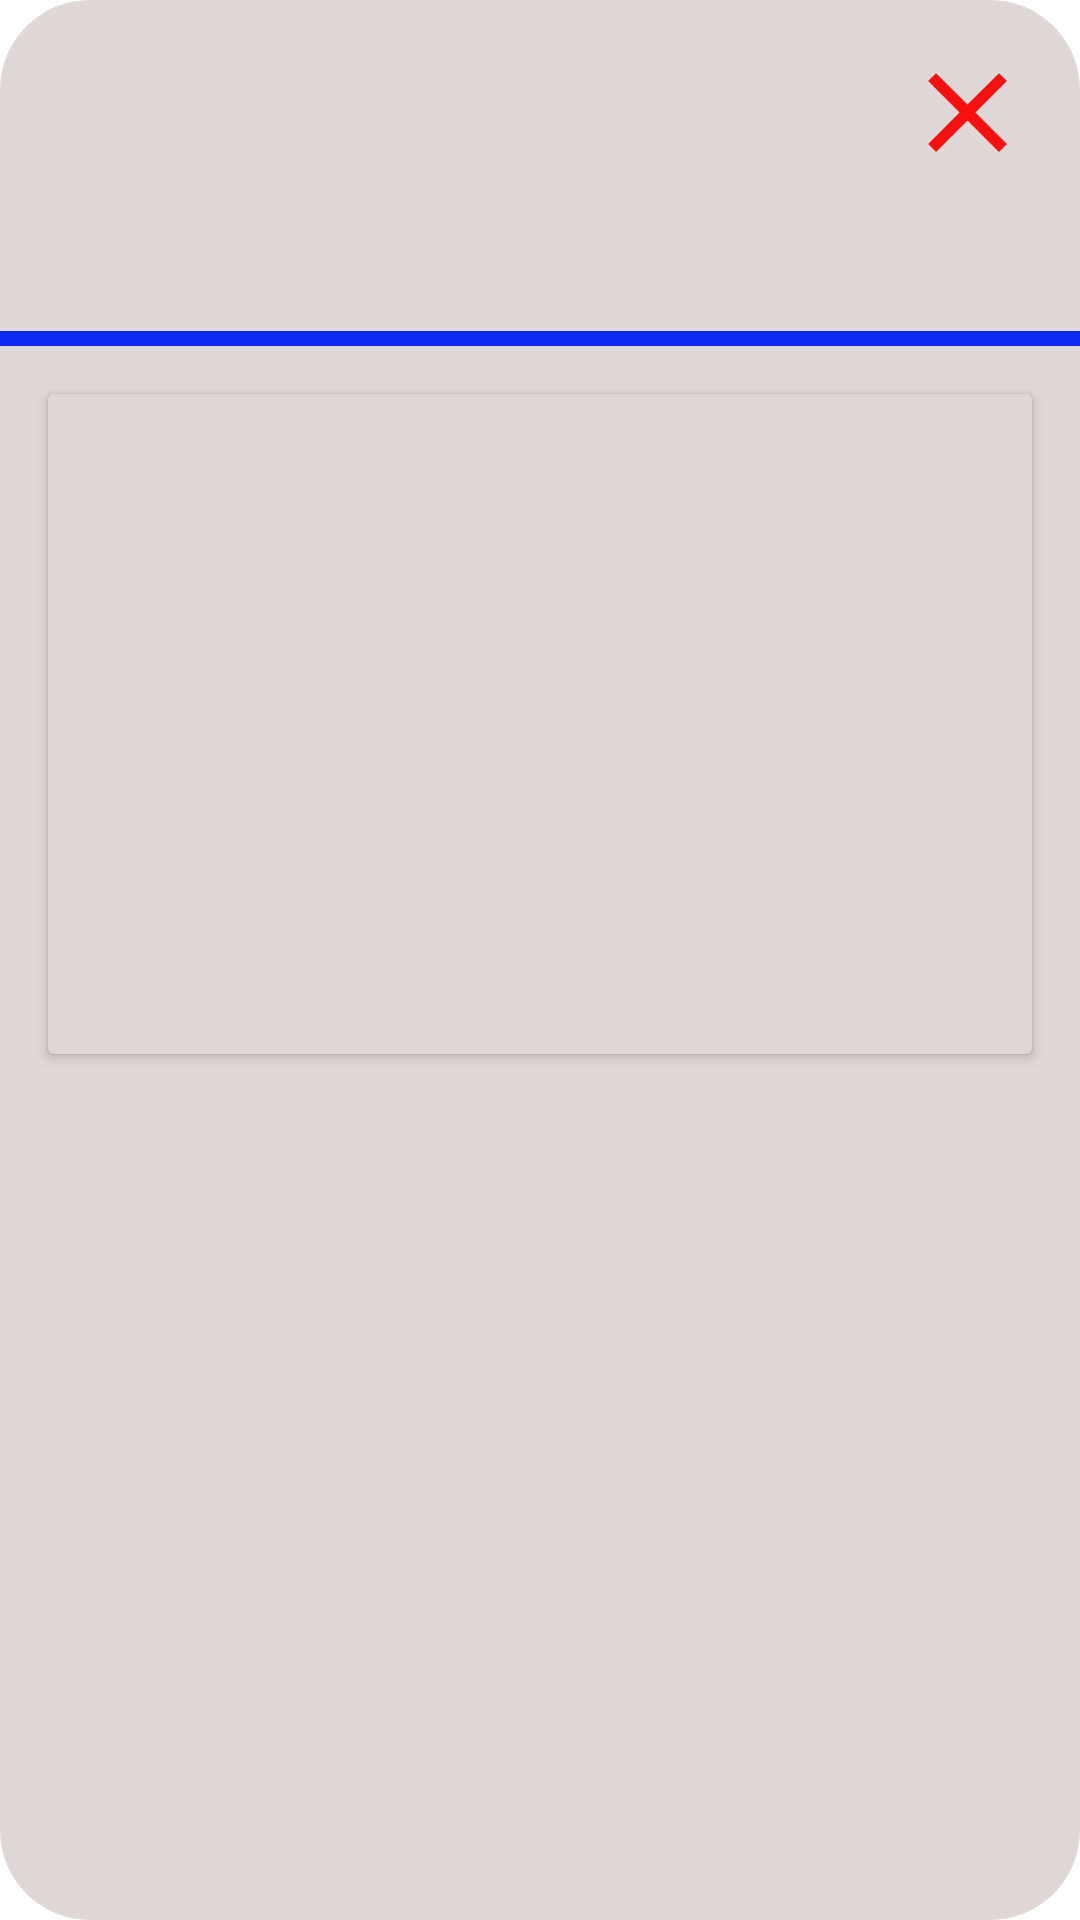

Icons on this 1080px×1920px Android screen, each with its box as (x1, y1, x2, y2):
close: (928, 73, 1007, 152)
